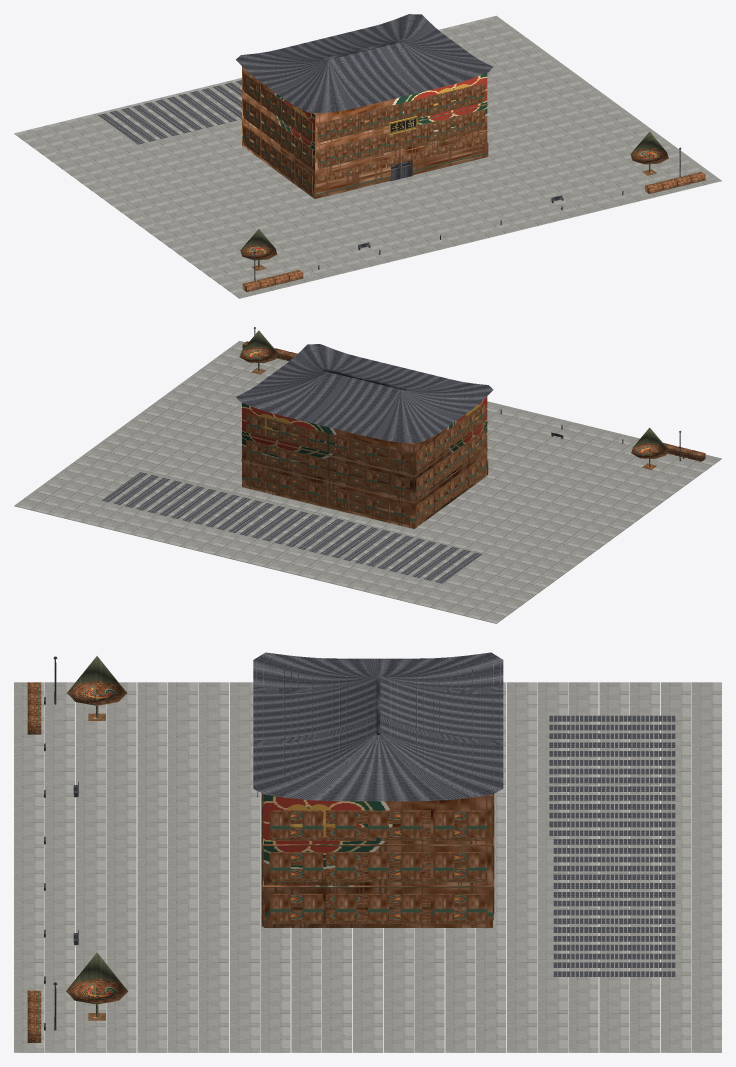
3 views of the same model, one above another, from view 1: azimuth 30°, elevation 25°; view 2: azimuth 150°, elevation 25°; view 3: azimuth 270°, elevation 25° (orthographic). The views are drawn at different scales.
Parts seen in each view (by area): view 1: 11680_01_06252_042_01__plinth_ground_base, 11680_01_06252_042_03__roof_deck_structure, 11680_01_06252_042_02__mass_body_facade, 11680_01_06252_042_05__window_sash_glass, 11680_01_06252_042_06__landscape_greenery, 11680_01_06252_042_05__door_hardware_iron; view 2: 11680_01_06252_042_01__plinth_ground_base, 11680_01_06252_042_03__roof_deck_structure, 11680_01_06252_042_02__mass_body_facade, 11680_01_06252_042_06__landscape_greenery; view 3: 11680_01_06252_042_01__plinth_ground_base, 11680_01_06252_042_03__roof_deck_structure, 11680_01_06252_042_02__mass_body_facade, 11680_01_06252_042_06__landscape_greenery.
Boxes of the visible parts, x1=… form: 11680_01_06252_042_01__plinth_ground_base: x1=14, y1=15, x2=721, y2=298; 11680_01_06252_042_03__roof_deck_structure: x1=98, y1=14, x2=493, y2=144; 11680_01_06252_042_02__mass_body_facade: x1=241, y1=66, x2=488, y2=198; 11680_01_06252_042_05__window_sash_glass: x1=317, y1=83, x2=485, y2=187; 11680_01_06252_042_06__landscape_greenery: x1=240, y1=131, x2=705, y2=292; 11680_01_06252_042_05__door_hardware_iron: x1=253, y1=147, x2=681, y2=280; 11680_01_06252_042_01__plinth_ground_base: x1=14, y1=341, x2=721, y2=623; 11680_01_06252_042_03__roof_deck_structure: x1=102, y1=344, x2=493, y2=583; 11680_01_06252_042_02__mass_body_facade: x1=241, y1=396, x2=488, y2=528; 11680_01_06252_042_06__landscape_greenery: x1=240, y1=330, x2=705, y2=469; 11680_01_06252_042_01__plinth_ground_base: x1=14, y1=682, x2=721, y2=1052; 11680_01_06252_042_03__roof_deck_structure: x1=253, y1=652, x2=675, y2=976; 11680_01_06252_042_02__mass_body_facade: x1=261, y1=794, x2=494, y2=927; 11680_01_06252_042_06__landscape_greenery: x1=27, y1=656, x2=128, y2=1042.
Size of the model in its own units: 83.95 by 17.65 by 67.95.
Materials: 7 (7 with a texture image).
